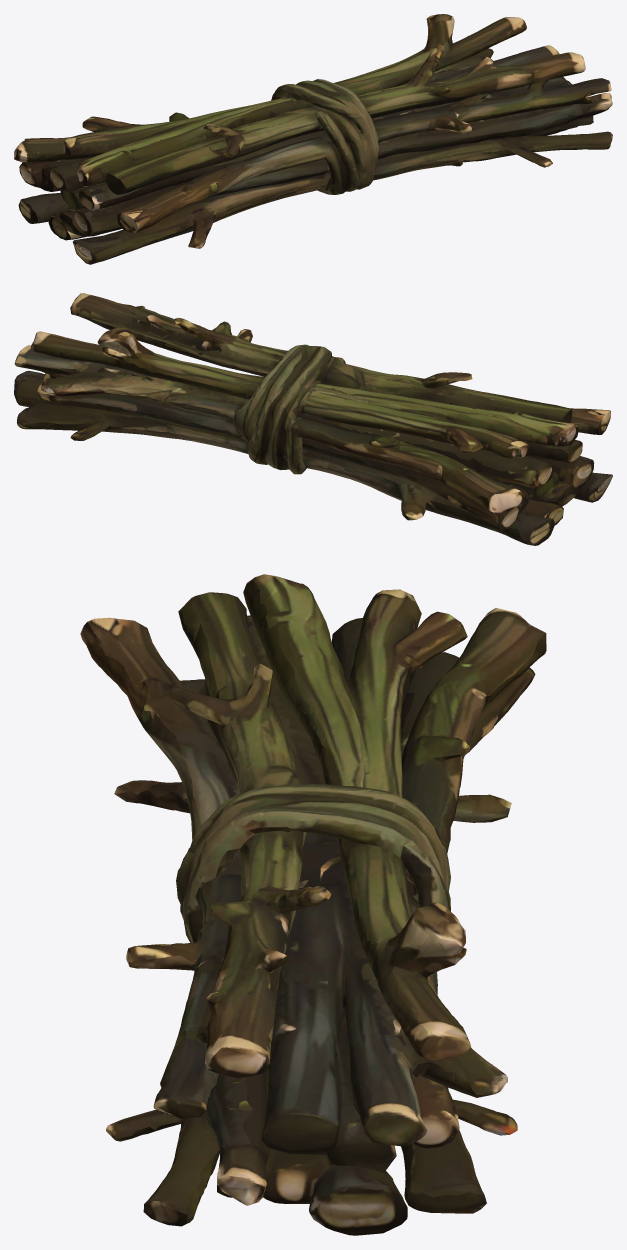
File: item_twigs.glb
The picture shows the model from 3 angles, top to bottom: view 1: azimuth 30°, elevation 25°; view 2: azimuth 150°, elevation 25°; view 3: azimuth 270°, elevation 25°; orthographic projection. The views are drawn at different scales.
Visible parts, largest first — view 1: item_twigs; view 2: item_twigs; view 3: item_twigs.
Boxes of the visible parts, box(x1,y1,x2,y2) form: item_twigs: box(14, 14, 612, 264); item_twigs: box(14, 293, 612, 545); item_twigs: box(80, 574, 546, 1235).
Size of the model in its own units: 0.5 by 0.0989 by 0.1865.
1 material, 1 textured.
